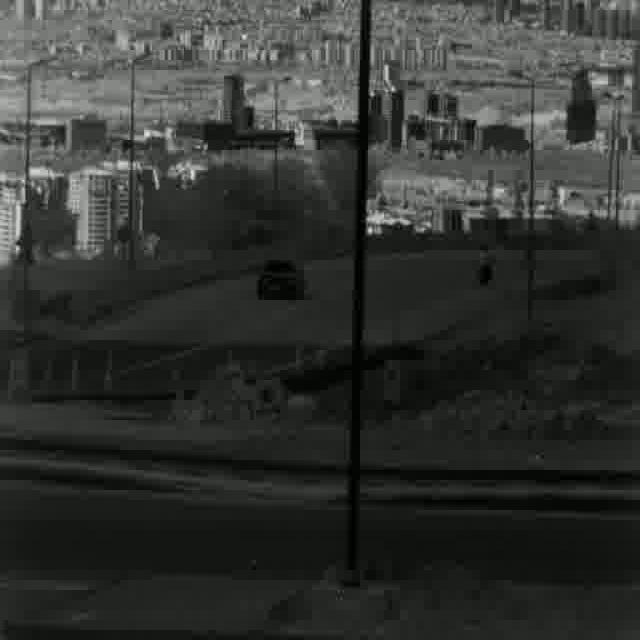Car: (256, 257, 304, 302)
Motorcycle: (474, 242, 496, 288)
